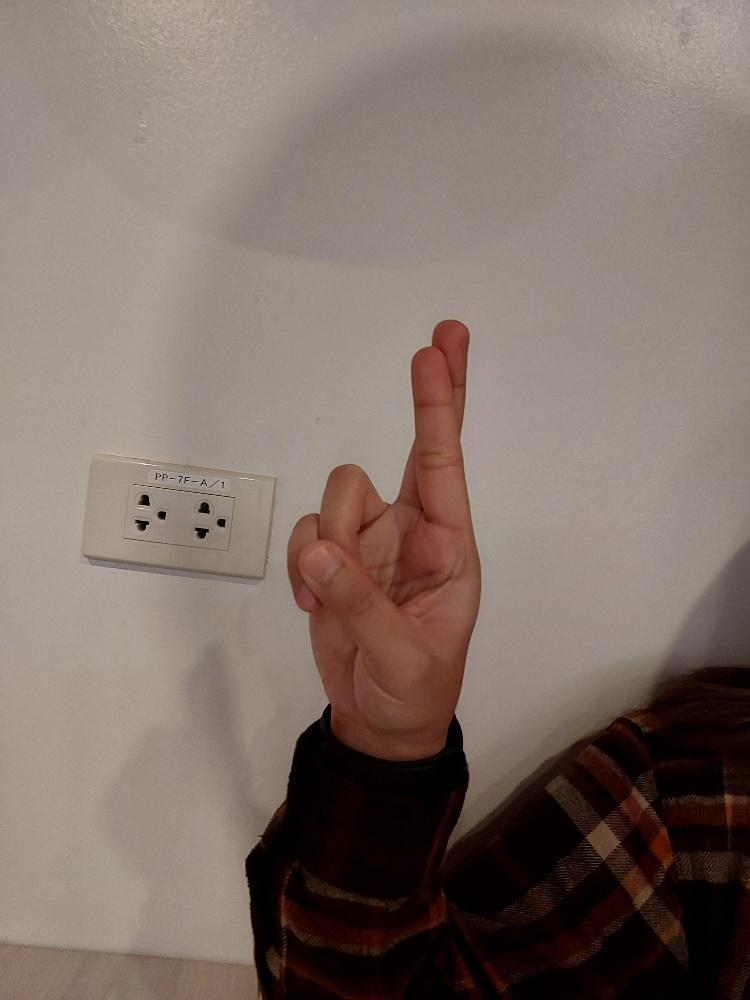r: (281, 311, 485, 743)
